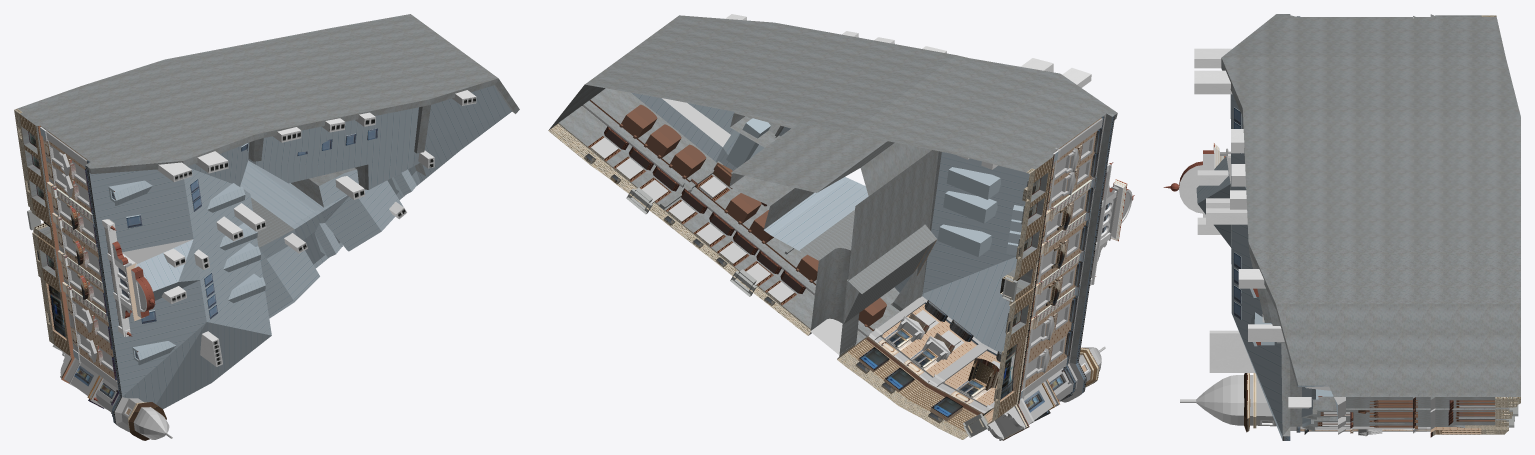
File: suur-Karja15_1.obj
The picture shows the model from 3 angles, left to right: view 1: azimuth 30°, elevation 25°; view 2: azimuth 150°, elevation 25°; view 3: azimuth 270°, elevation 25°; orthographic projection. The views are drawn at different scales.
Visible parts, largest first — view 1: polySurface14; view 2: polySurface14; view 3: polySurface14.
Boxes of the visible parts, <box> form: polySurface14: <box>14,14,519,440</box>; polySurface14: <box>548,14,1134,440</box>; polySurface14: <box>1163,14,1520,440</box>.
Bounding box in the file's own units: 43.71 × 26.55 × 21.89.
